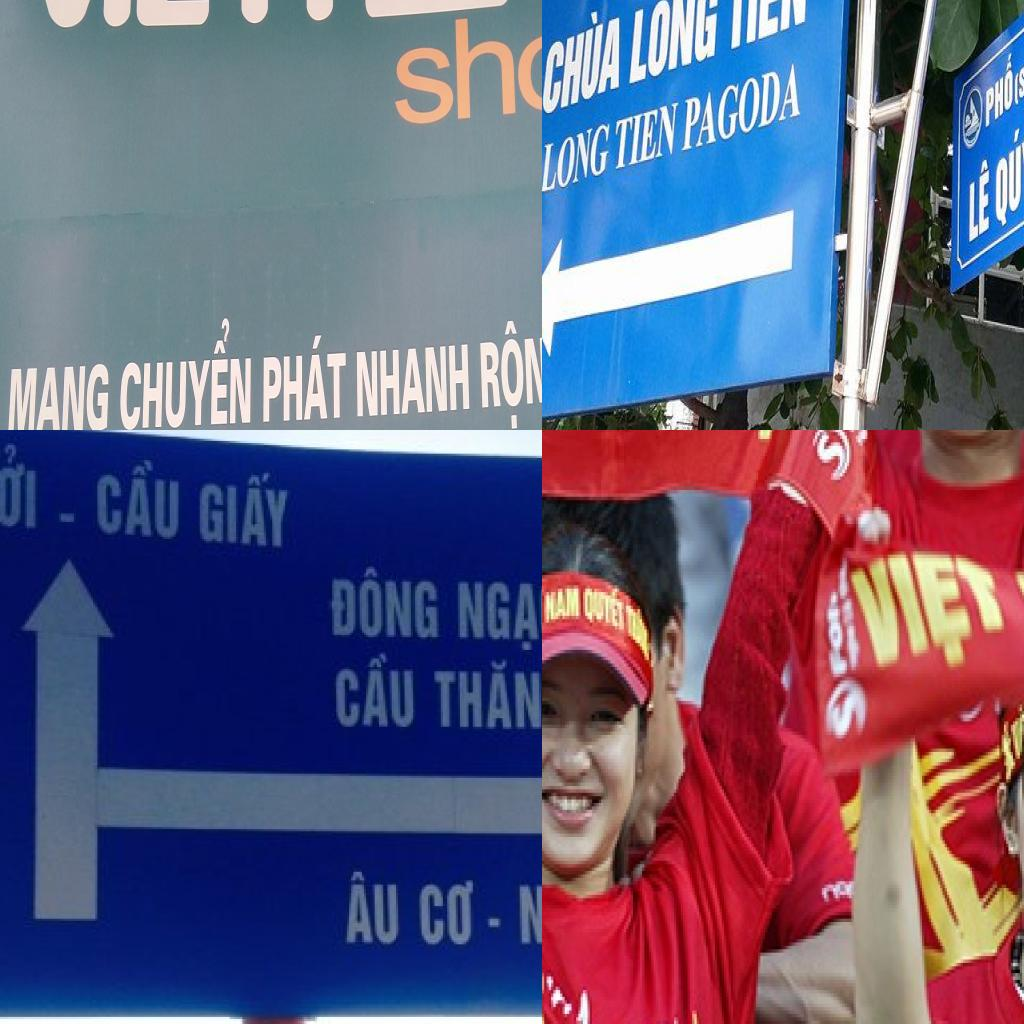text: (845, 527, 1013, 684), (389, 1, 542, 148), (22, 0, 512, 45), (118, 309, 256, 430), (680, 62, 800, 160), (189, 462, 306, 560), (317, 554, 443, 643), (87, 443, 189, 548), (355, 335, 471, 426), (430, 649, 542, 739), (259, 320, 348, 430), (321, 648, 424, 735), (447, 566, 542, 660), (542, 5, 622, 116), (476, 302, 542, 430), (3, 355, 112, 430), (628, 0, 720, 86), (610, 98, 682, 176), (413, 872, 484, 951), (542, 118, 612, 198), (338, 866, 407, 944), (722, 0, 813, 57), (0, 436, 48, 539), (993, 112, 1024, 235), (822, 680, 872, 748), (581, 578, 626, 640), (984, 46, 1016, 132), (822, 585, 849, 681), (966, 152, 992, 248), (511, 880, 542, 950), (815, 430, 853, 486), (547, 586, 585, 630)
